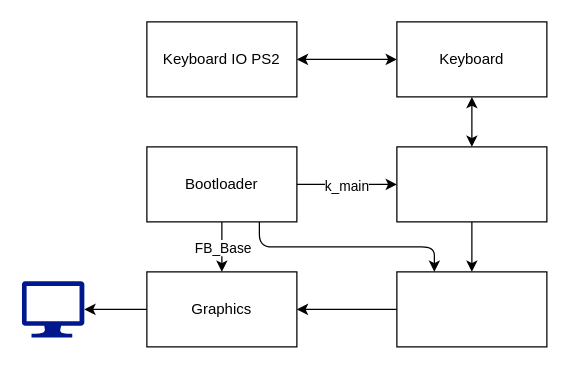
The diagram is 569 pixels wide and 369 high, and some of its shapes have lost their labels. Each missing label, with the centre of its shape:
"Console Subsystem" goes at pixel 471 309.
"Kernel" goes at pixel 471 184.
